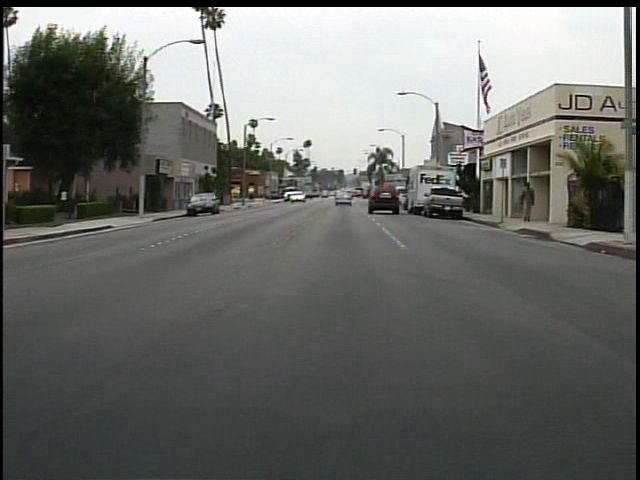person: (518, 181, 539, 225)
